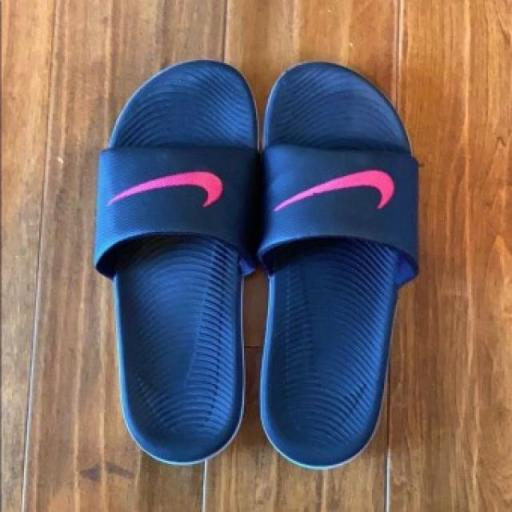Nike: (107, 167, 232, 215)
